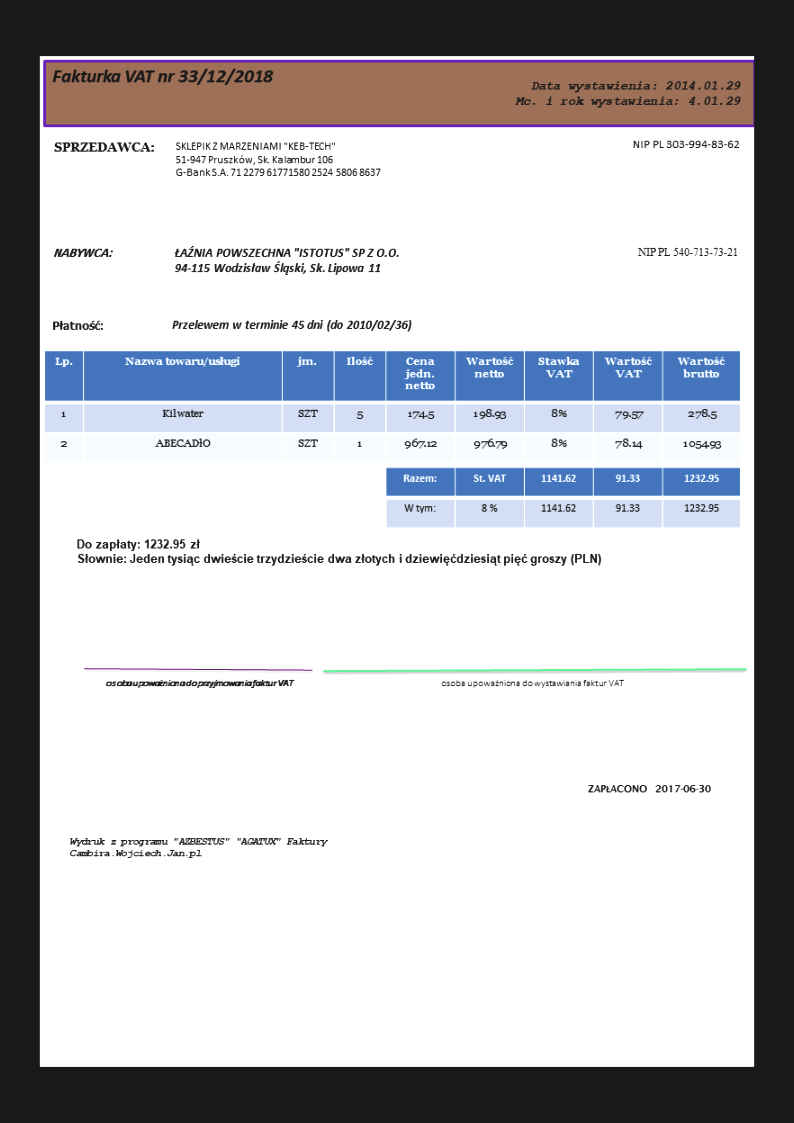Table: (42, 348, 741, 462), (384, 466, 741, 530)
TextBox: (74, 536, 604, 569), (173, 137, 383, 181), (511, 77, 743, 110), (171, 244, 402, 277), (68, 833, 331, 861), (49, 63, 276, 88), (169, 317, 413, 332), (103, 675, 294, 691), (438, 676, 627, 690), (585, 781, 714, 797), (630, 135, 742, 152), (51, 138, 155, 156), (634, 243, 741, 260), (51, 245, 114, 261), (49, 317, 105, 333)
